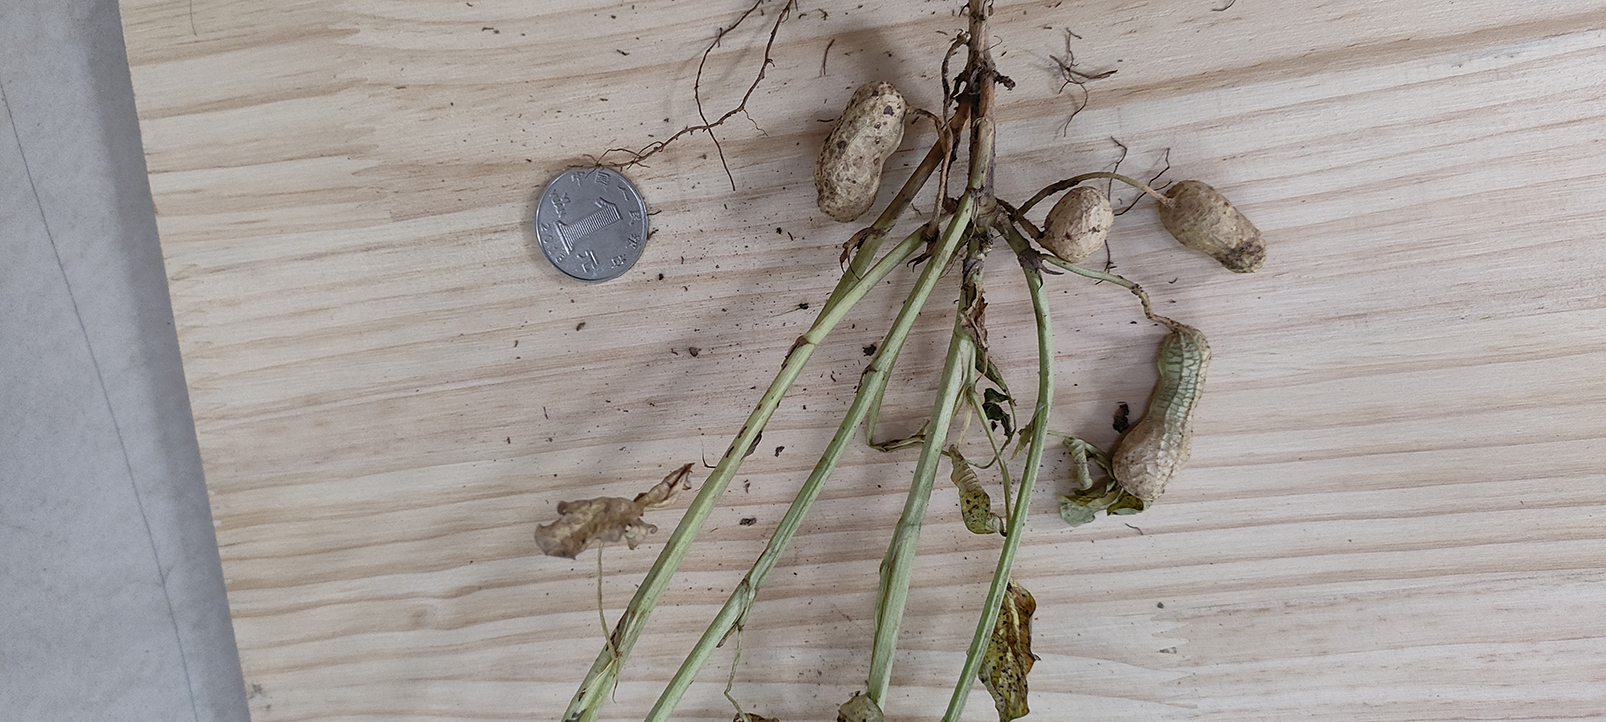h: (1108, 326, 1214, 501), (816, 79, 906, 217), (1163, 182, 1266, 272), (1042, 186, 1115, 264)
